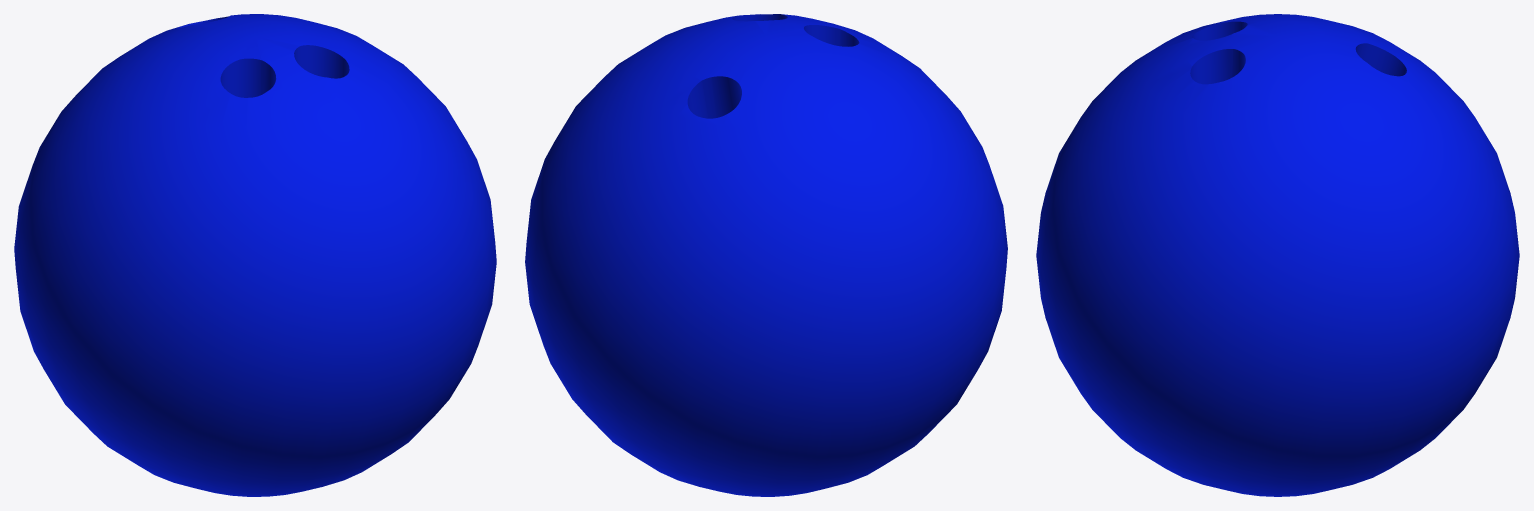
Rendered from Bowling_Ball.fbx.
The picture shows the model from 3 angles, left to right: view 1: azimuth 30°, elevation 25°; view 2: azimuth 150°, elevation 25°; view 3: azimuth 270°, elevation 25°; orthographic projection.
Parts seen in each view (by area): view 1: Sphere; view 2: Sphere; view 3: Sphere.
Part boxes in pixels (x1,y1,x2,y2): Sphere: (14,14,496,496); Sphere: (525,14,1007,496); Sphere: (1036,14,1519,496).
Bounding box in the file's own units: 200 × 200 × 200.
